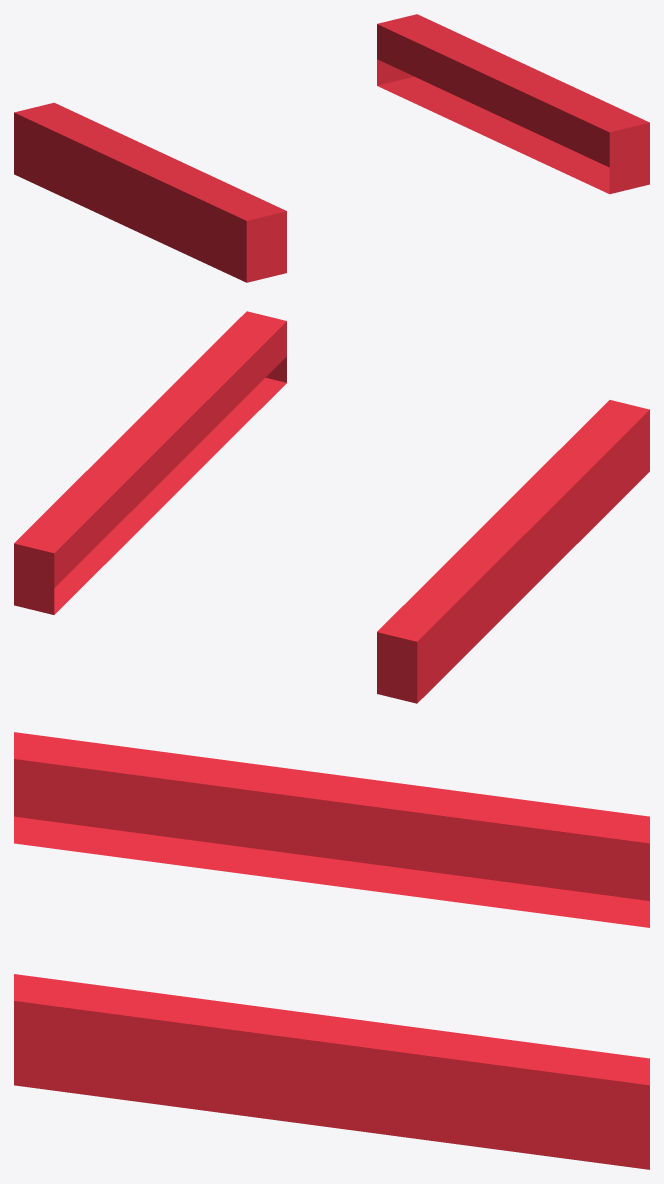
Rendered from RampA (Wall).fbx.
3 views of the same model, one above another, from view 1: azimuth 30°, elevation 25°; view 2: azimuth 150°, elevation 25°; view 3: azimuth 270°, elevation 25° (orthographic). The views are drawn at different scales.
Parts seen in each view (by area): view 1: rampA; view 2: rampA; view 3: rampA.
Boxes of the visible parts, bbox=[...] form: rampA: bbox=[14, 14, 649, 282]; rampA: bbox=[14, 311, 649, 703]; rampA: bbox=[14, 732, 649, 1169].
Size of the model in its own units: 39.37 by 11.55 by 39.37.
